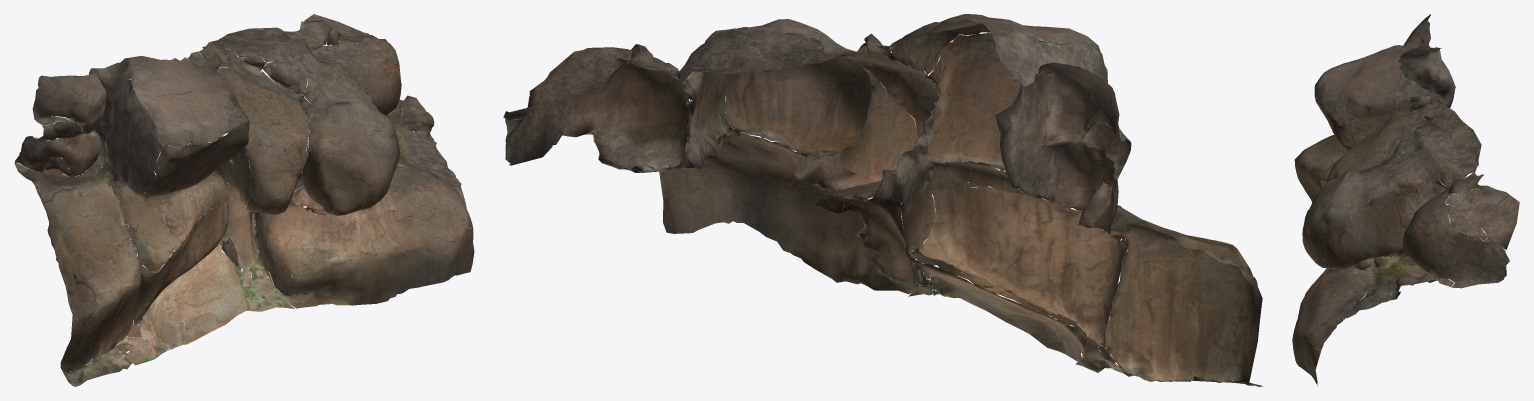
File: kf_cliff_c.glb
The picture shows the model from 3 angles, left to right: view 1: azimuth 30°, elevation 25°; view 2: azimuth 150°, elevation 25°; view 3: azimuth 270°, elevation 25°; orthographic projection. The views are drawn at different scales.
Visible parts, largest first — view 1: drone_rock_01; view 2: drone_rock_01; view 3: drone_rock_01.
Part boxes in pixels (x1,y1,x2,y2): drone_rock_01: [14, 14, 474, 386]; drone_rock_01: [503, 14, 1263, 386]; drone_rock_01: [1292, 14, 1519, 385].
Size of what is drawn, in the model's own units: 8.28 by 4.96 by 4.39.
1 material, 1 textured.
